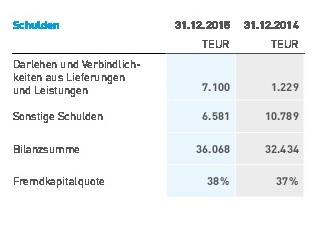table: (0, 0, 315, 226)
